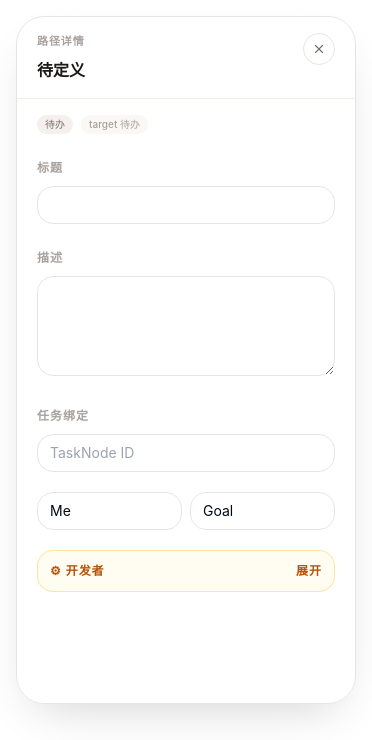
Test: EdgeDetailPanel › keeps developer controls collapsed by default when developer mode is enabled
expect the button "pending" is not shown: met
What coordinates should you click on to do the following:
click the button "⚙ 开发者 展开"
I would click on:
 (77, 570)
Its box is top-left (50, 562), bottom-right (322, 578).
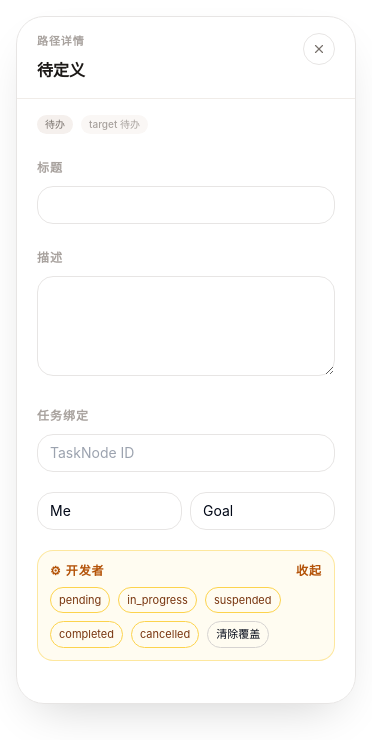
expect the button "pending" is shown: met, box top-left (50, 586), bottom-right (110, 613)
expect the button "清除覆盖" is shown: met, box top-left (207, 621), bottom-right (269, 648)
